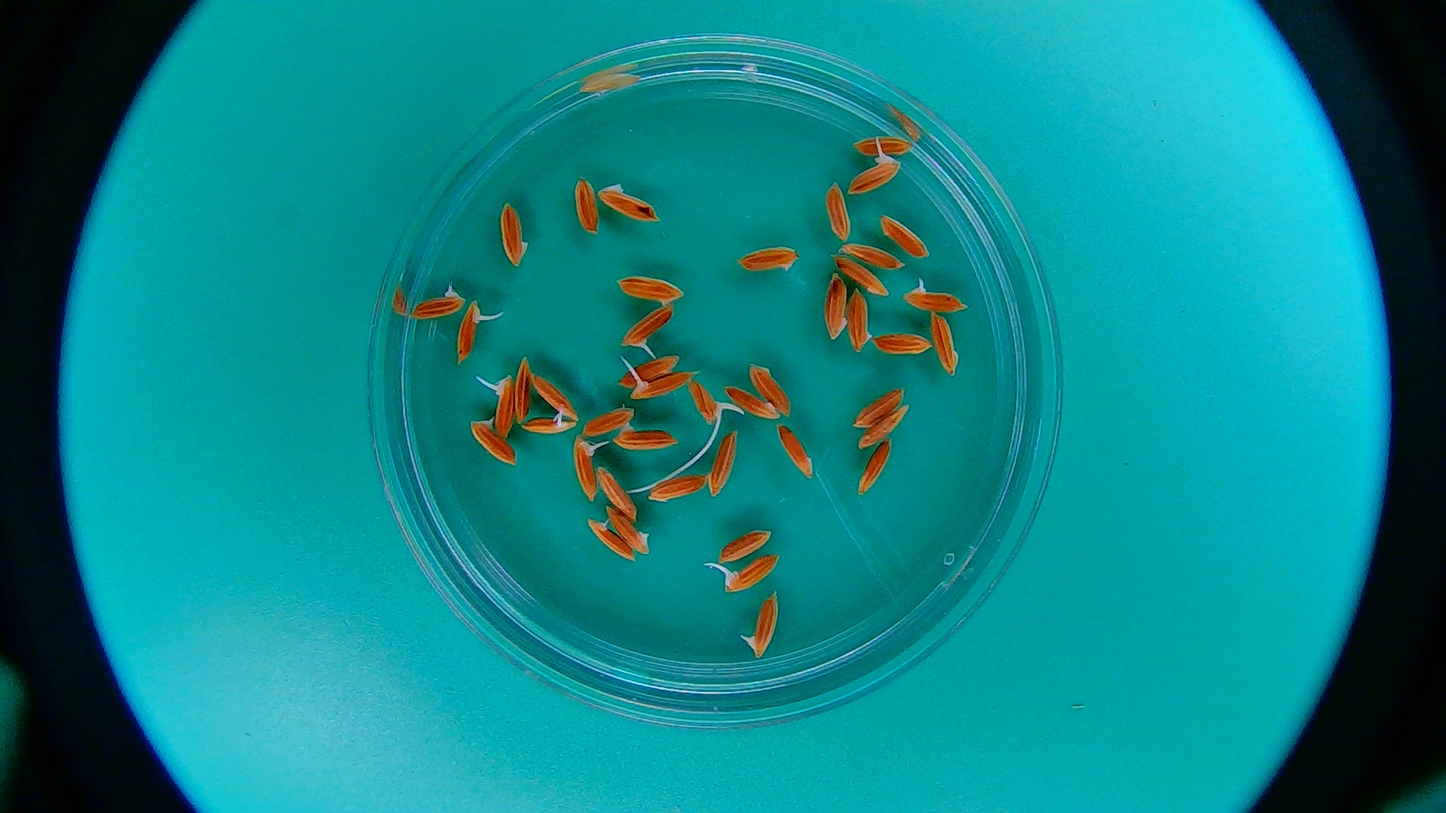no: (612, 348, 697, 387), (848, 397, 911, 449), (599, 500, 654, 559), (850, 376, 907, 430), (924, 308, 967, 379), (495, 193, 535, 269), (705, 422, 743, 502), (851, 438, 897, 501), (719, 380, 779, 428), (597, 183, 661, 227), (832, 236, 907, 273), (774, 421, 816, 481), (712, 522, 773, 562), (647, 467, 707, 507), (569, 170, 602, 239), (846, 282, 876, 357), (821, 272, 851, 346), (614, 273, 687, 303), (738, 242, 801, 276), (509, 352, 538, 425), (612, 425, 678, 456), (600, 466, 640, 516), (822, 179, 851, 244), (517, 411, 582, 440), (883, 219, 929, 258), (851, 132, 917, 158), (870, 330, 936, 356)
yes: (468, 412, 517, 467), (721, 553, 783, 596), (622, 306, 681, 351), (584, 513, 637, 562), (850, 151, 901, 199), (531, 370, 577, 422), (748, 593, 783, 660), (409, 282, 463, 323), (571, 437, 602, 503), (628, 368, 687, 400), (487, 373, 513, 442), (457, 303, 487, 360), (901, 287, 961, 315), (691, 376, 721, 424)
